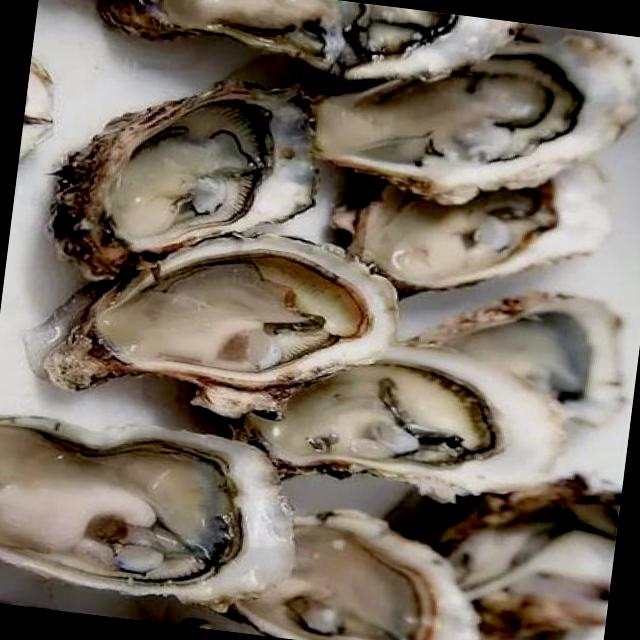Oyster-Open: (0, 414, 296, 610), (46, 230, 400, 392), (49, 79, 320, 285), (228, 341, 570, 504), (316, 35, 640, 204), (348, 160, 614, 300), (97, 0, 525, 84), (220, 510, 480, 640), (400, 291, 628, 425)
